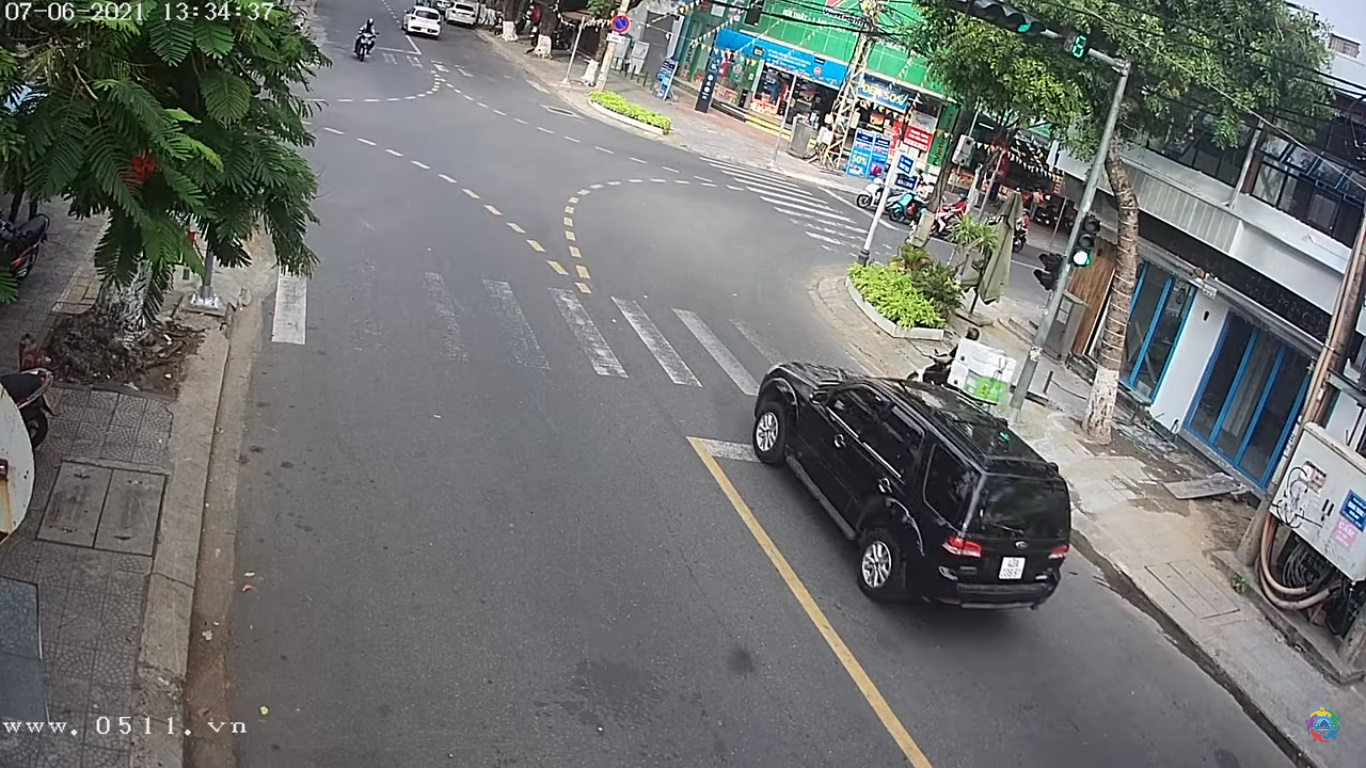car: (752, 357, 1077, 644)
